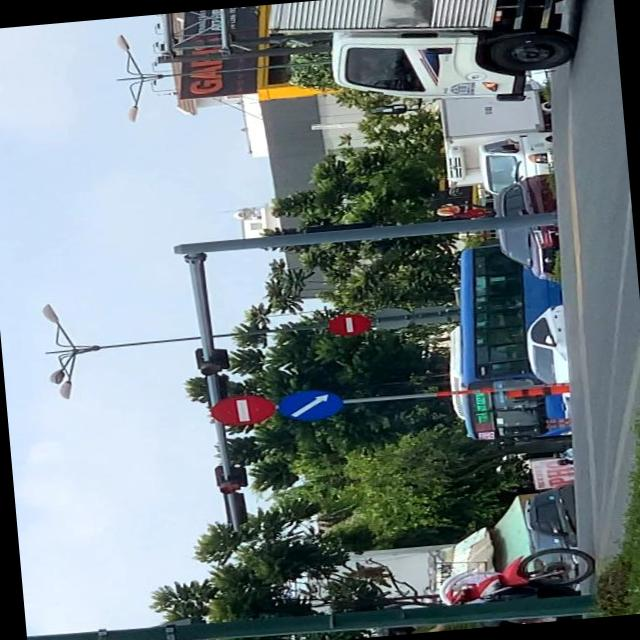P-102: (210, 394, 277, 426), (326, 311, 370, 336)
R-302a: (282, 388, 344, 424)
